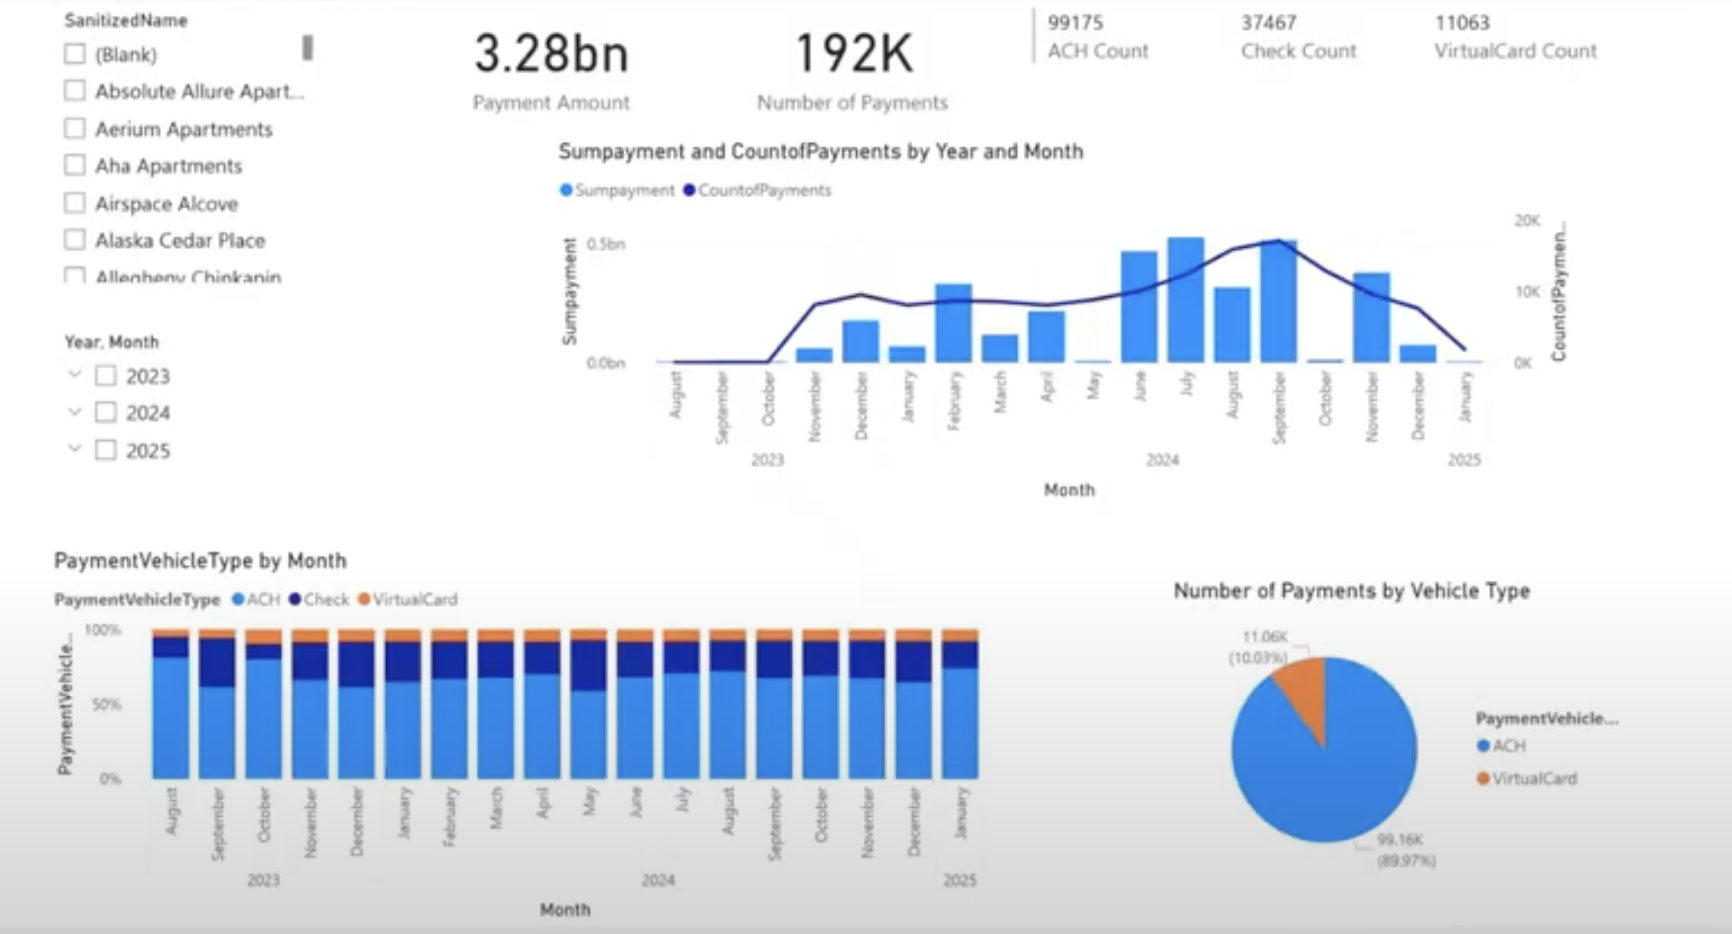

This screenshot's page, from the dashboard's own definition file:
{"tool":"powerbi","page":{"name":"Payment Behavior","canvas":[1280,720],"ordinal":1},"visuals":[{"type":"slicer","fields":{"Values":["SAN_ApartmentNameRef.SanitizedName"]},"box":[0,0,211.1,224.1],"z":0},{"type":"lineClusteredColumnComboChart","fields":{"Y":["df_SAN_RecipientPayments.Sumpayment"],"Y2":["df_SAN_RecipientPayments.CountofPayments"],"Category":["Table.Date.Variation.Date Hierarchy.Year","Table.Date.Variation.Date Hierarchy.Month"]},"box":[391.9,107,795.3,286.3],"z":1000},{"type":"hundredPercentStackedColumnChart","title":"PaymentVehicleType by Month","fields":{"Series":["df_SAN_RecipientPayments.PaymentVehicleType"],"Y":["CountNonNull(df_SAN_RecipientPayments.PaymentVehicleType)"],"Category":["Table.Date.Variation.Date Hierarchy.Year","Table.Date.Variation.Date Hierarchy.Month"]},"box":[0,425.1,743.2,295],"z":2000},{"type":"pieChart","title":"Number of Payments by Vehicle Type","fields":{"Category":["df_SAN_RecipientPayments.PaymentVehicleType"],"Y":["CountNonNull(df_SAN_RecipientPayments.PaymentVehicleType)"]},"box":[870.5,448.3,362.9,247.3],"z":3000},{"type":"slicer","fields":{"Values":["Table.Date.Variation.Date Hierarchy.Year","Table.Date.Variation.Date Hierarchy.Month"]},"box":[0,250.2,198.1,143.2],"z":4000},{"type":"card","fields":{"Values":["df_SAN_RecipientPayments.CountofPayments"]},"box":[509,0,234.3,92.5],"z":5000},{"type":"card","fields":{"Values":["df_SAN_RecipientPayments.Sumpayment"]},"box":[274.7,0,234.3,92.5],"z":6000},{"type":"multiRowCard","fields":{"Values":["df_SAN_RecipientPayments.ACH Count","df_SAN_RecipientPayments.Check Count","df_SAN_RecipientPayments.VirtualCard Count"]},"box":[760.6,0,472.9,70.9],"z":7000}]}

Visuals, with their boxes on the page's 1280x720 design canvas (x1, y1, x2, y2). These are canvas units, not pixel positions in the 1732x934 screenshot, which may show the page scaled, cropped or inside an application window:
slicer - SAN_ApartmentNameRef.SanitizedName: region(0, 0, 211, 224)
lineClusteredColumnComboChart - df_SAN_RecipientPayments.Sumpayment x df_SAN_RecipientPayments.CountofPayments: region(392, 107, 1187, 393)
"PaymentVehicleType by Month" hundredPercentStackedColumnChart: region(0, 425, 743, 720)
"Number of Payments by Vehicle Type" pieChart: region(870, 448, 1233, 696)
slicer - Table.Date.Variation.Date Hierarchy.Year x Table.Date.Variation.Date Hierarchy.Month: region(0, 250, 198, 393)
card - df_SAN_RecipientPayments.CountofPayments: region(509, 0, 743, 92)
card - df_SAN_RecipientPayments.Sumpayment: region(275, 0, 509, 92)
multiRowCard - df_SAN_RecipientPayments.ACH Count x df_SAN_RecipientPayments.Check Count: region(761, 0, 1234, 71)
